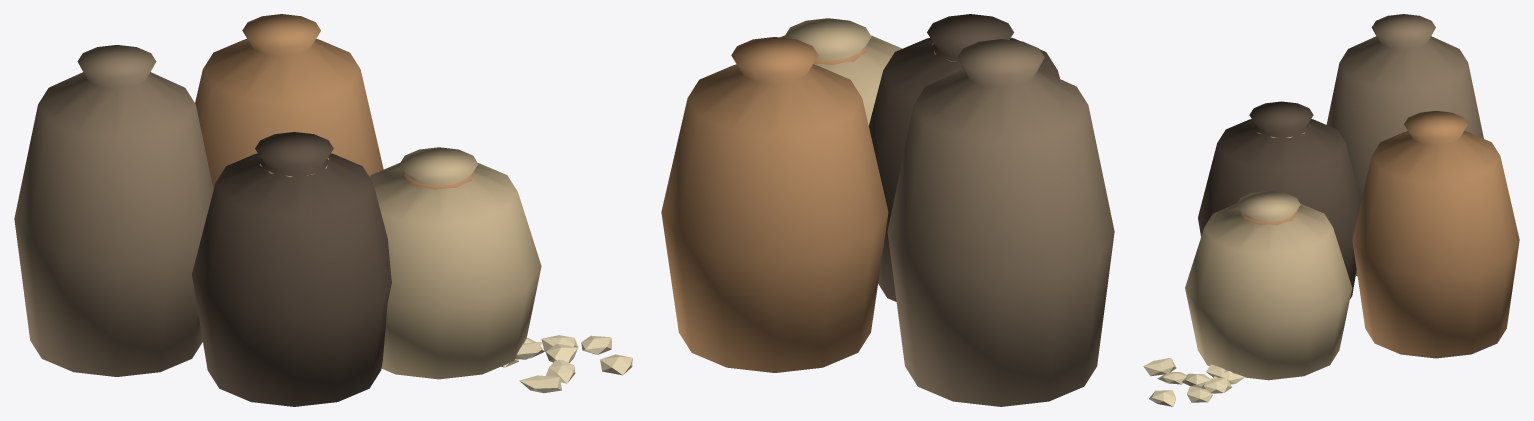
The model's file is sack_pile.glb.
3 views of the same model, side by side, from view 1: azimuth 30°, elevation 25°; view 2: azimuth 150°, elevation 25°; view 3: azimuth 270°, elevation 25° (orthographic). The views are drawn at different scales.
Visible parts, largest first — view 1: sack_pile; view 2: sack_pile; view 3: sack_pile.
Part boxes in pixels (bbox=[...]): sack_pile: bbox=[14, 14, 632, 406]; sack_pile: bbox=[661, 14, 1114, 406]; sack_pile: bbox=[1143, 14, 1519, 406].
Size of the model in its own units: 0.6714 by 0.4016 by 0.5848.
